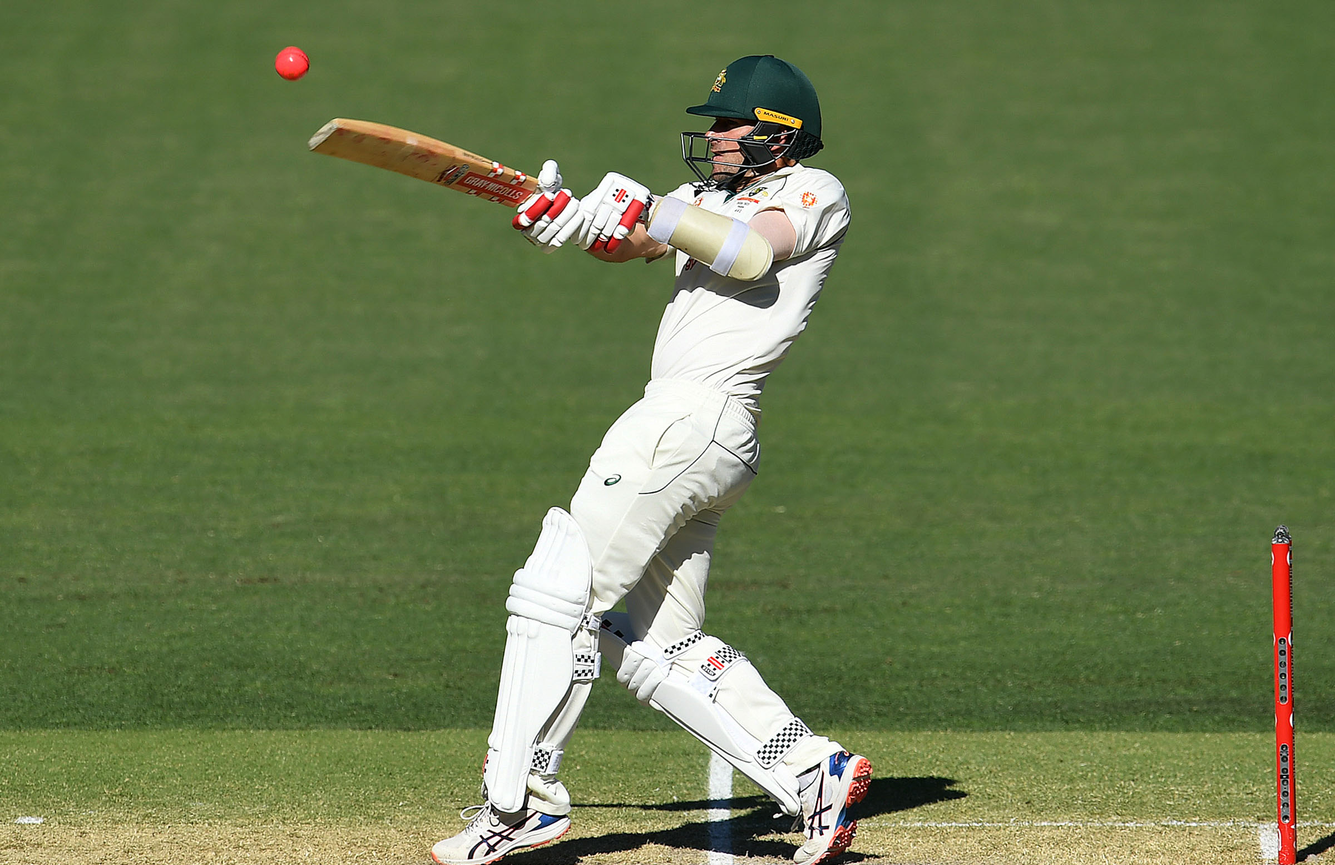Defence: (82, 8, 1150, 865)
Pullshot: (104, 11, 1105, 860)
